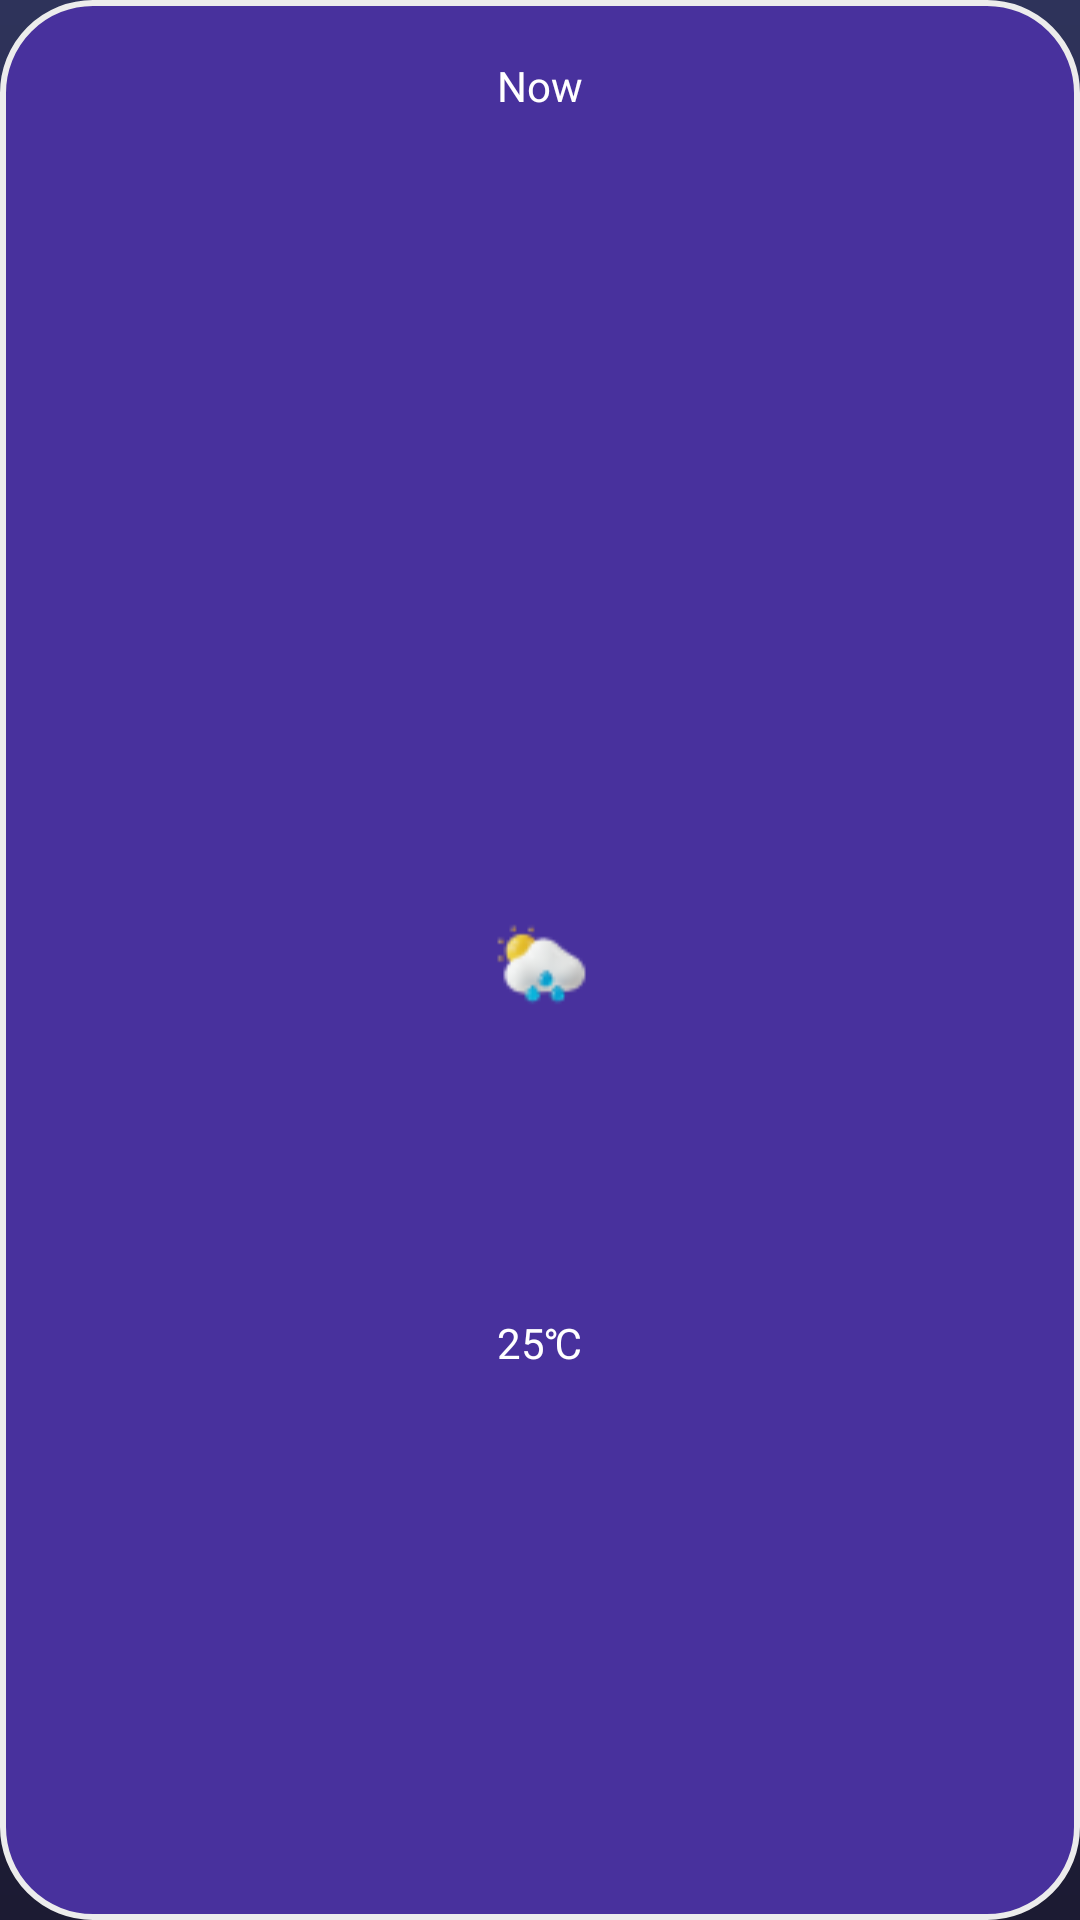

Screen size 1080 x 1920. Icon name, then its box in pixels as (x1, y1, x2, y2):
weather: (497, 925, 586, 1003)
